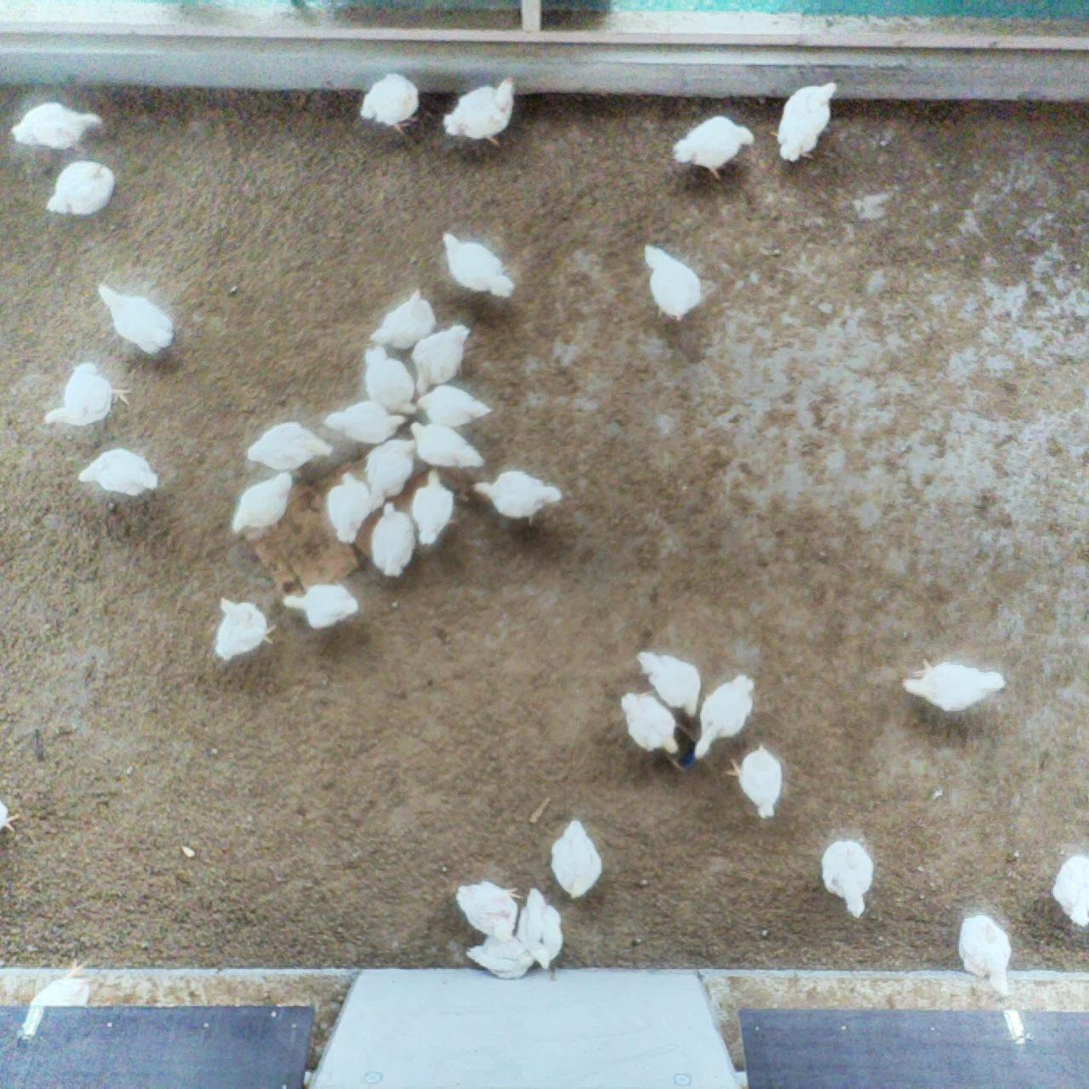chicken: (897, 651, 1009, 716), (36, 359, 132, 433), (769, 76, 842, 170), (96, 279, 179, 359), (438, 74, 523, 151), (666, 112, 754, 186), (690, 667, 757, 761), (468, 466, 565, 530), (439, 225, 517, 302), (8, 96, 104, 157), (723, 739, 787, 827), (957, 910, 1018, 1000), (208, 592, 280, 668), (632, 646, 705, 720), (641, 241, 705, 325), (817, 835, 878, 922), (76, 444, 165, 503), (243, 418, 333, 476), (546, 816, 606, 901), (406, 464, 463, 553), (354, 68, 424, 140), (365, 283, 437, 353), (41, 157, 119, 221), (450, 875, 522, 942), (230, 468, 296, 539), (409, 321, 472, 395), (280, 577, 365, 631), (357, 343, 418, 418), (515, 884, 566, 972), (366, 498, 419, 580), (363, 438, 423, 510), (618, 689, 680, 757), (407, 418, 488, 470), (321, 399, 410, 446), (410, 383, 495, 430), (464, 930, 539, 982), (324, 469, 372, 544), (1046, 847, 1089, 929)
